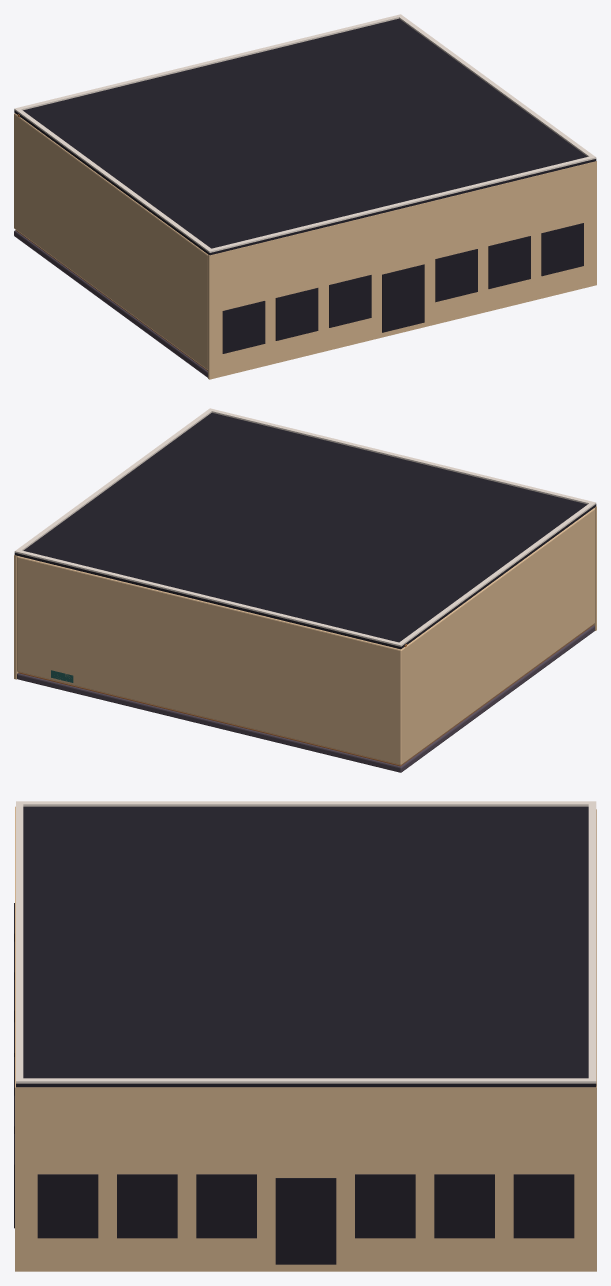
File: bld.gym.glb
3 views of the same model, one above another, from view 1: azimuth 30°, elevation 25°; view 2: azimuth 150°, elevation 25°; view 3: azimuth 270°, elevation 25° (orthographic). The views are drawn at different scales.
Parts seen in each view (by area): view 1: roof, interior; view 2: roof, interior; view 3: roof.
Boxes of the visible parts, left/top/right/bottom form: roof: left=14, top=14, right=596, bottom=379; interior: left=14, top=113, right=207, bottom=377; roof: left=14, top=408, right=596, bottom=679; interior: left=17, top=508, right=594, bottom=772; roof: left=14, top=801, right=596, bottom=1271.
Size of the model in its own units: 16.12 by 5.08 by 14.13.
